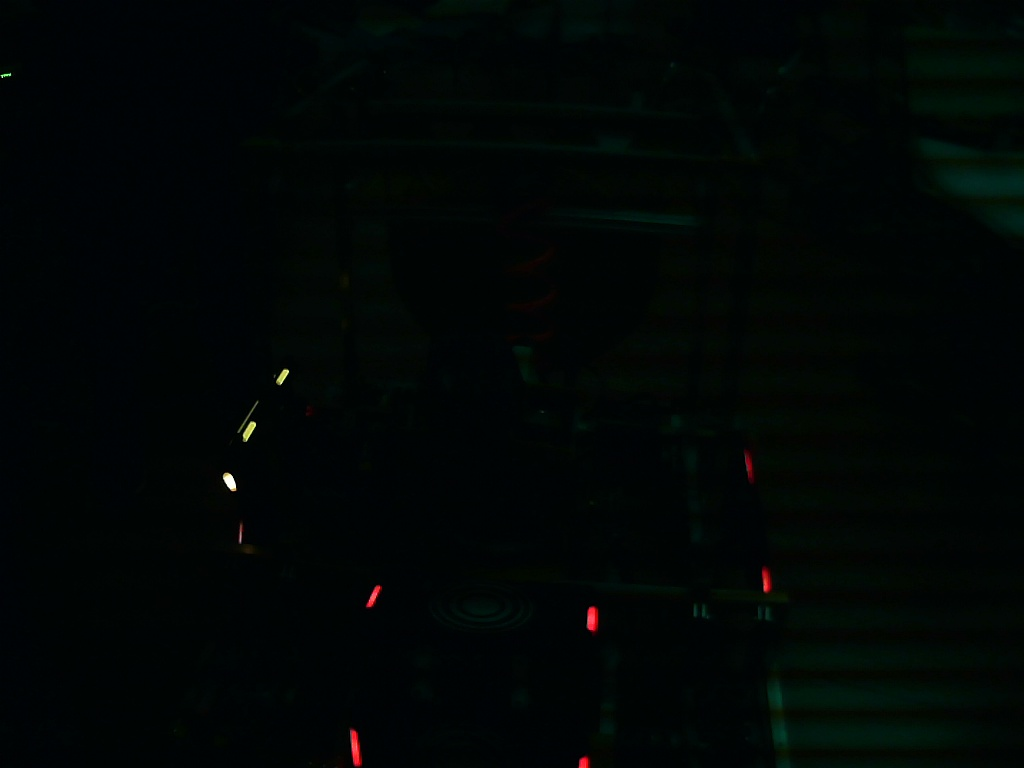lamp: (346, 728, 367, 766)
